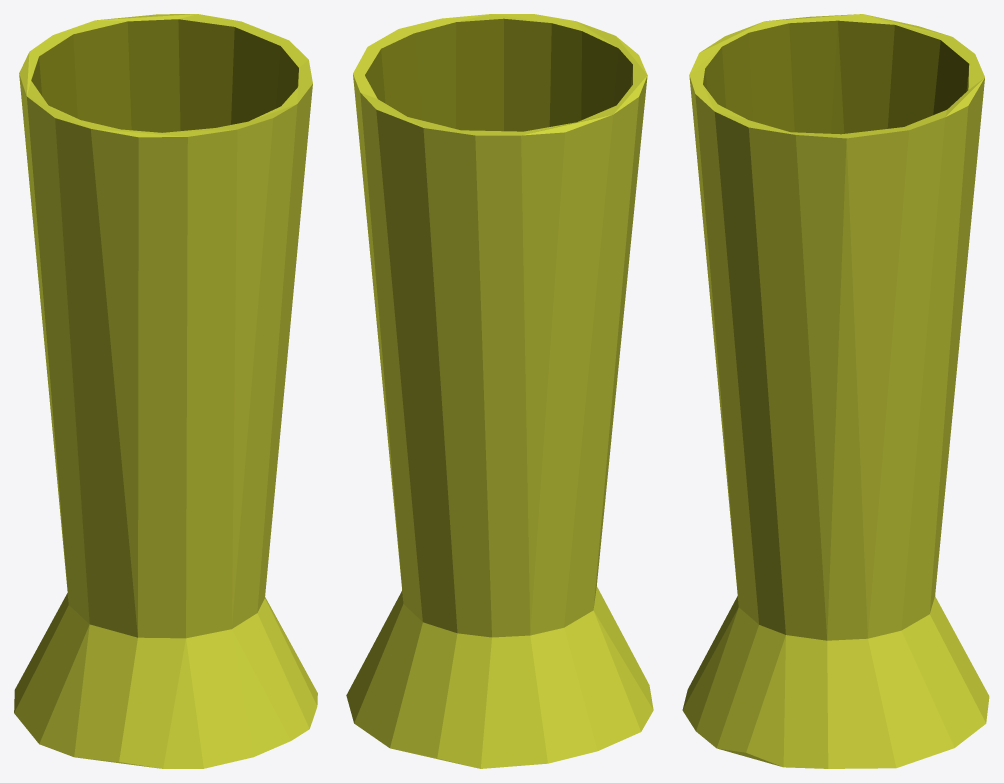
The model's file is DrinkingGlass01.fbx.
The picture shows the model from 3 angles, left to right: view 1: azimuth 30°, elevation 25°; view 2: azimuth 150°, elevation 25°; view 3: azimuth 270°, elevation 25°; orthographic projection.
Visible parts, largest first — view 1: DrinkingGlass01LowPoly; view 2: DrinkingGlass01LowPoly; view 3: DrinkingGlass01LowPoly.
Boxes of the visible parts, x1=… form: DrinkingGlass01LowPoly: x1=14, y1=14, x2=317, y2=768; DrinkingGlass01LowPoly: x1=346, y1=14, x2=653, y2=768; DrinkingGlass01LowPoly: x1=682, y1=14, x2=989, y2=768.
Size of the model in its own units: 6.4 by 14.46 by 6.36.
